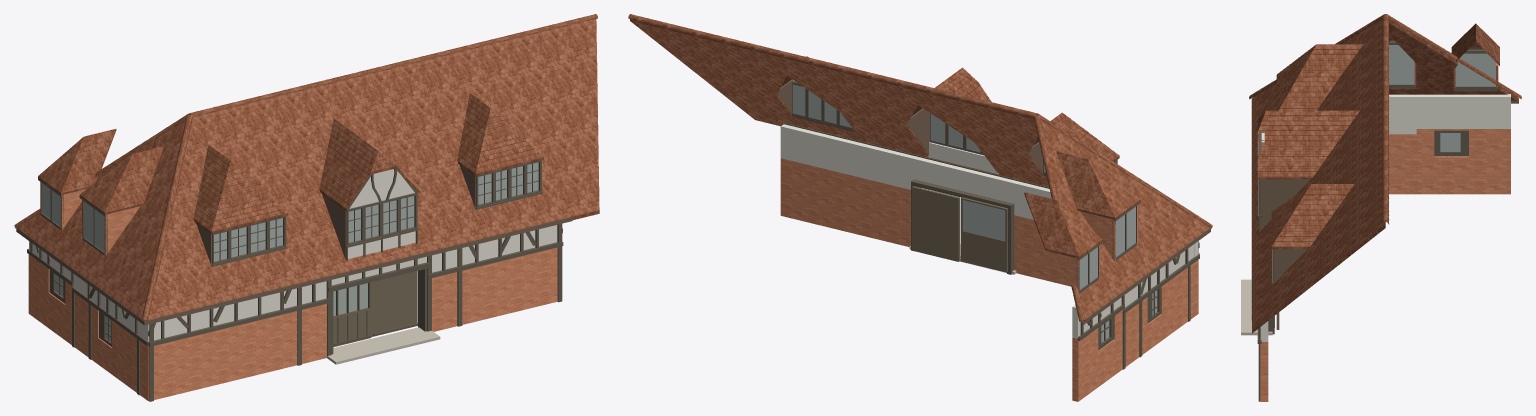
File: full-source.glb
The picture shows the model from 3 angles, left to right: view 1: azimuth 30°, elevation 25°; view 2: azimuth 150°, elevation 25°; view 3: azimuth 270°, elevation 25°; orthographic projection. The views are drawn at different scales.
Visible parts, largest first — view 1: 沙逊别墅辅楼院面木构与老虎窗; view 2: 沙逊别墅辅楼院面木构与老虎窗; view 3: 沙逊别墅辅楼院面木构与老虎窗.
Boxes of the visible parts, box(x1,y1,x2,y2) form: 沙逊别墅辅楼院面木构与老虎窗: box(14, 14, 599, 401); 沙逊别墅辅楼院面木构与老虎窗: box(628, 14, 1212, 401); 沙逊别墅辅楼院面木构与老虎窗: box(1241, 14, 1521, 401).
Size of the model in its own units: 18.56 by 7.51 by 8.34.
8 materials, 2 textured.
